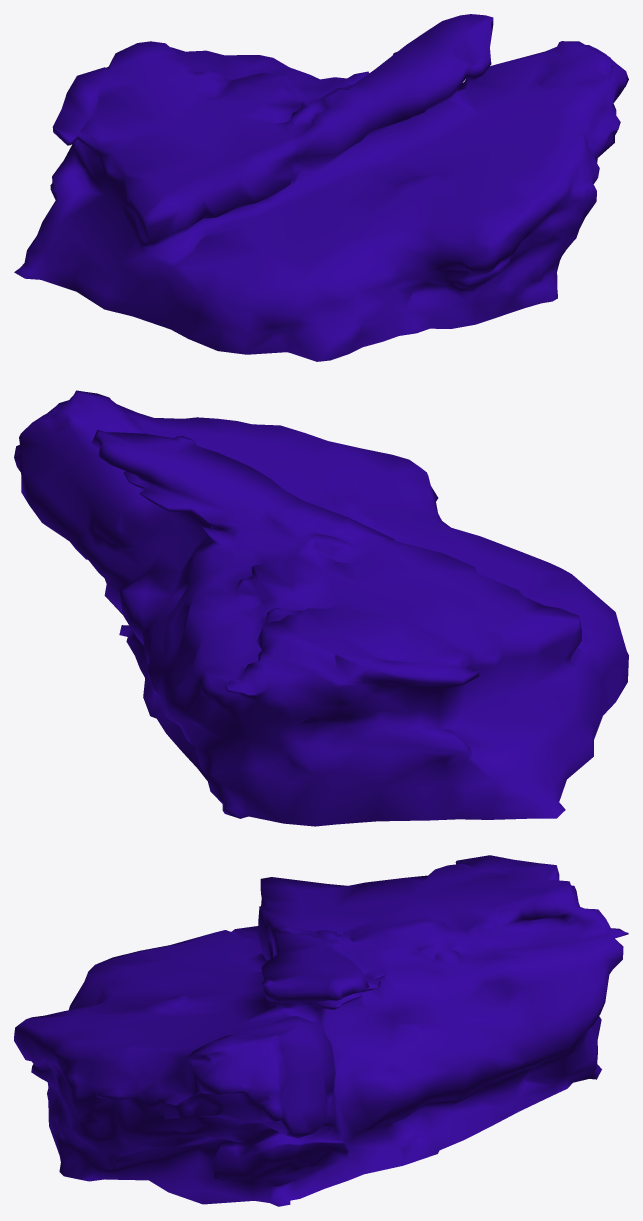
Rendered from MSH_Rocks_Boulder_06.FBX.
3 views of the same model, one above another, from view 1: azimuth 30°, elevation 25°; view 2: azimuth 150°, elevation 25°; view 3: azimuth 270°, elevation 25° (orthographic). The views are drawn at different scales.
Parts seen in each view (by area): view 1: MESH_LOD0; view 2: MESH_LOD0; view 3: MESH_LOD0.
Part boxes in pixels (bbox=[...]): MESH_LOD0: bbox=[14, 14, 628, 361]; MESH_LOD0: bbox=[14, 390, 628, 826]; MESH_LOD0: bbox=[14, 855, 628, 1206].
Size of what is drawn, in the model's own units: 86.9 by 29.33 by 75.36.
